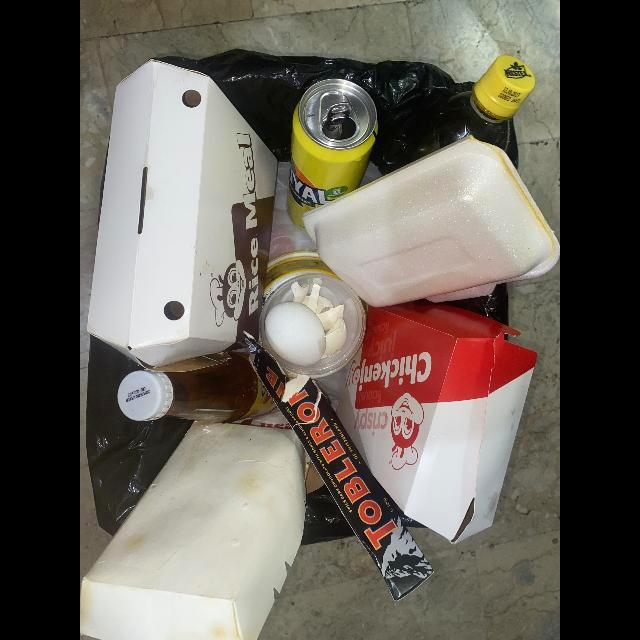aluminum: (286, 77, 378, 238)
cardboard: (88, 58, 279, 371), (318, 296, 535, 545), (247, 333, 436, 602), (81, 420, 307, 640)
glass_bottle: (118, 346, 280, 424)
plastic_bottle: (424, 57, 536, 158)
